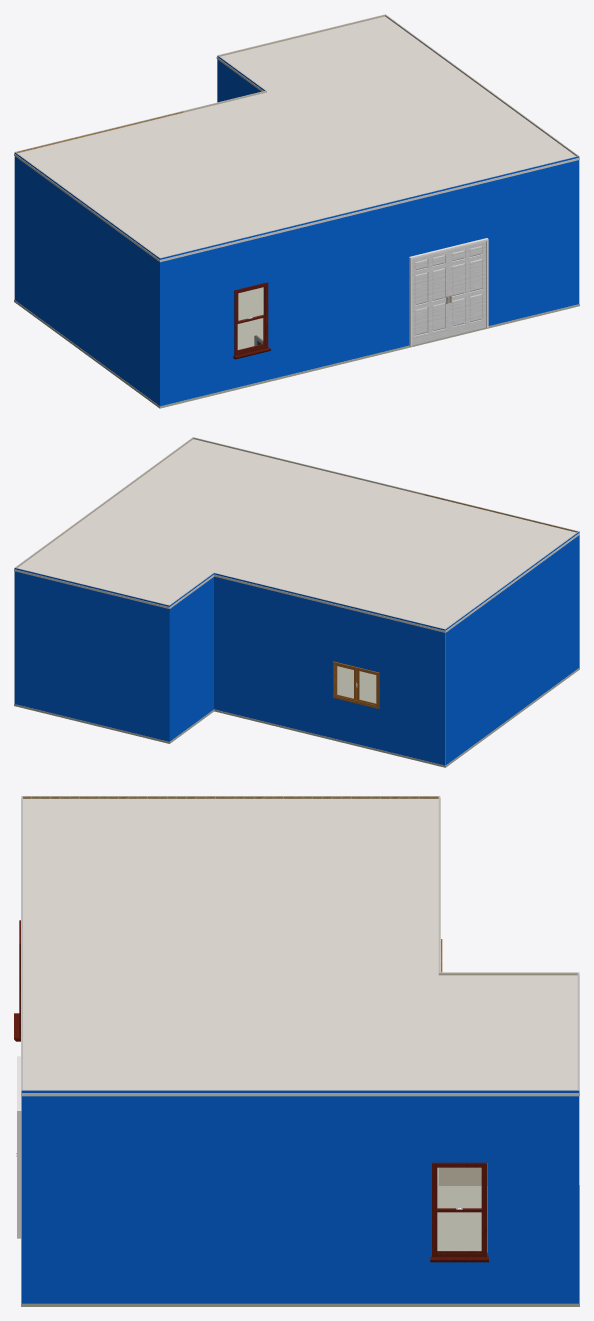
File: ProcTHOR-Train-5.glb
3 views of the same model, one above another, from view 1: azimuth 30°, elevation 25°; view 2: azimuth 150°, elevation 25°; view 3: azimuth 270°, elevation 25° (orthographic). The views are drawn at different scales.
Parts seen in each view (by area): view 1: Ceiling#room|2|c, WallInside#wall|exterior|0.00|8.19|6.14|8.19, Ceiling#room|3|c, WallInside#wall|exterior|6.14|8.19|10.24|8.19, WallInside#wall|exterior|10.24|2.05|10.24|8.19, Doorway_Door_2b, Doorway_Door_2a, Floor#room|3|f, Floor#room|2|f, Window_Hung_32x60, WallInside#wall|exterior|4.10|0.00|4.10|2.05, Doorway_Double_2 (+1 smaller); view 2: Ceiling#room|2|c, WallInside#wall|exterior|0.00|0.00|4.10|0.00, Ceiling#room|3|c, WallInside#wall|exterior|6.14|2.05|10.24|2.05, WallInside#wall|exterior|10.24|2.05|10.24|8.19, WallInside#wall|exterior|4.10|2.05|6.14|2.05, WallInside#wall|exterior|4.10|0.00|4.10|2.05, Floor#room|3|f, Floor#room|2|f, Window_Slider_48x36, WallInside#wall|2|0.00|8.19|6.14|8.19, WallInside#wall|2|0.00|0.00|0.00|8.19; view 3: WallInside#wall|exterior|0.00|0.00|0.00|8.19, Ceiling#room|2|c, Ceiling#room|3|c, Floor#room|2|f, Window_Hung_32x60, WallInside#wall|2|4.10|0.00|4.10|2.05, WallInside#wall|3|10.24|2.05|10.24|8.19, Doorway_Double_2.
Boxes of the visible parts, <box> form: Ceiling#room|2|c: <box>182,16,579,221</box>; WallInside#wall|exterior|0.00|8.19|6.14|8.19: <box>327,156,579,365</box>; Ceiling#room|3|c: <box>14,113,327,262</box>; WallInside#wall|exterior|6.14|8.19|10.24|8.19: <box>160,217,328,406</box>; WallInside#wall|exterior|10.24|2.05|10.24|8.19: <box>14,152,159,405</box>; Doorway_Door_2b: <box>449,241,486,336</box>; Doorway_Door_2a: <box>412,250,448,345</box>; Floor#room|3|f: <box>14,299,327,408</box>; Floor#room|2|f: <box>238,287,579,367</box>; Window_Hung_32x60: <box>233,282,271,359</box>; WallInside#wall|exterior|4.10|0.00|4.10|2.05: <box>217,55,265,102</box>; Doorway_Double_2: <box>409,238,488,346</box>; Ceiling#room|2|c: <box>14,439,424,608</box>; WallInside#wall|exterior|0.00|0.00|4.10|0.00: <box>14,568,169,741</box>; Ceiling#room|3|c: <box>290,495,579,632</box>; WallInside#wall|exterior|6.14|2.05|10.24|2.05: <box>290,591,445,765</box>; WallInside#wall|exterior|10.24|2.05|10.24|8.19: <box>445,531,579,765</box>; WallInside#wall|exterior|4.10|2.05|6.14|2.05: <box>214,573,291,727</box>; WallInside#wall|exterior|4.10|0.00|4.10|2.05: <box>169,573,213,741</box>; Floor#room|3|f: <box>290,667,579,767</box>; Floor#room|2|f: <box>14,666,366,743</box>; Window_Slider_48x36: <box>333,661,379,708</box>; WallInside#wall|2|0.00|8.19|6.14|8.19: <box>193,437,424,495</box>; WallInside#wall|2|0.00|0.00|0.00|8.19: <box>15,437,193,567</box>; WallInside#wall|exterior|0.00|0.00|0.00|8.19: <box>21,1090,579,1303</box>; Ceiling#room|2|c: <box>21,915,579,1096</box>; Ceiling#room|3|c: <box>21,798,440,916</box>; Floor#room|2|f: <box>21,1167,579,1306</box>; Window_Hung_32x60: <box>430,1162,488,1262</box>; WallInside#wall|2|4.10|0.00|4.10|2.05: <box>439,972,578,1185</box>; WallInside#wall|3|10.24|2.05|10.24|8.19: <box>22,796,439,798</box>; Doorway_Double_2: <box>17,1056,21,1238</box>.
Size of what is drawn, in the model's own units: 10.38 by 3.51 by 8.33.
183 materials, 64 textured.
